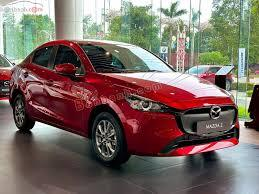mazda: (209, 104, 223, 119)
